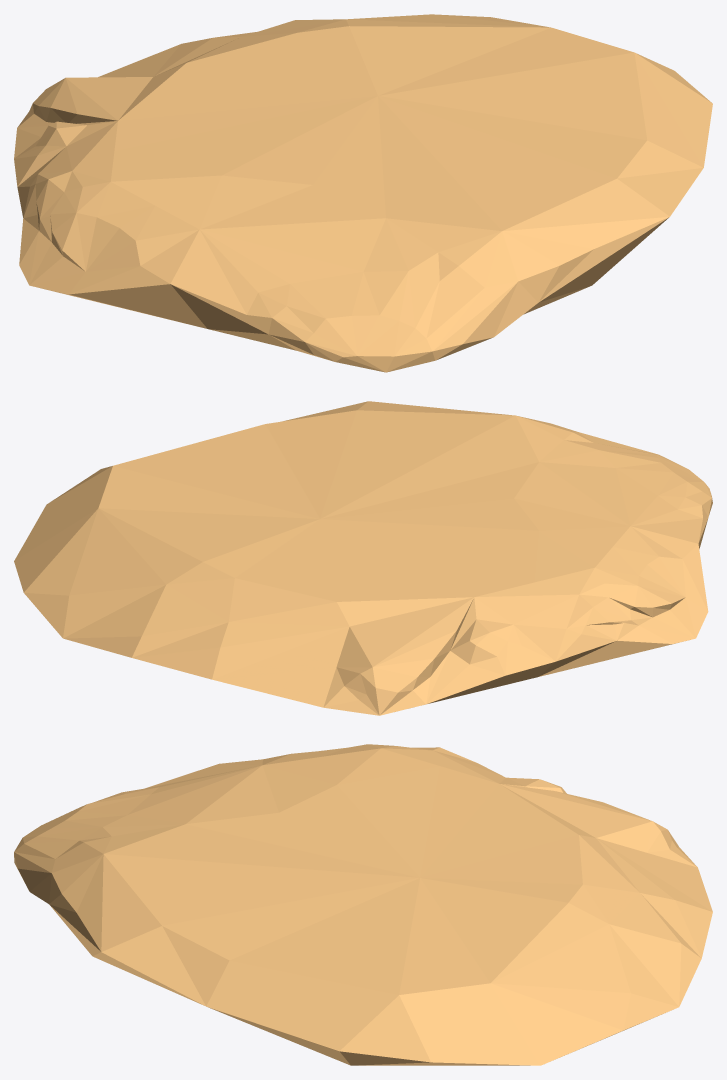
The model's file is soil_flat.fbx.
3 views of the same model, one above another, from view 1: azimuth 30°, elevation 25°; view 2: azimuth 150°, elevation 25°; view 3: azimuth 270°, elevation 25° (orthographic). The views are drawn at different scales.
Parts seen in each view (by area): view 1: mesh_1338577222; view 2: mesh_1338577222; view 3: mesh_1338577222.
Boxes of the visible parts, left/top/right/bottom form: mesh_1338577222: left=14, top=14, right=712, bottom=372; mesh_1338577222: left=14, top=401, right=712, bottom=715; mesh_1338577222: left=14, top=744, right=712, bottom=1065.
Bounding box in the file's own units: 347 × 34.06 × 332.
